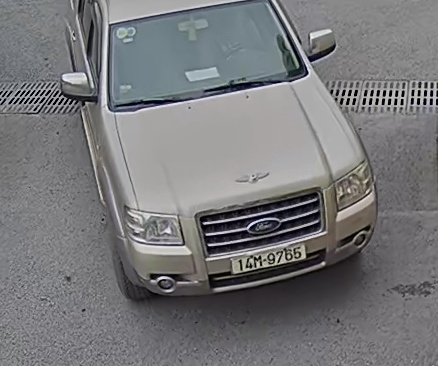vehicle plate: (229, 240, 307, 274)
